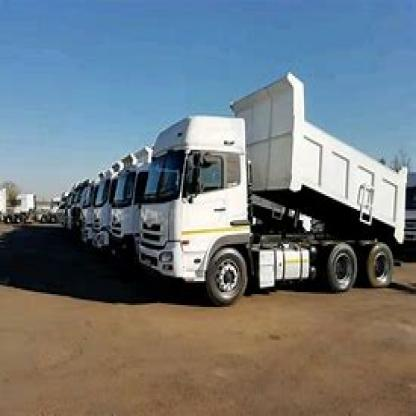dump_truck: (136, 63, 415, 316)
